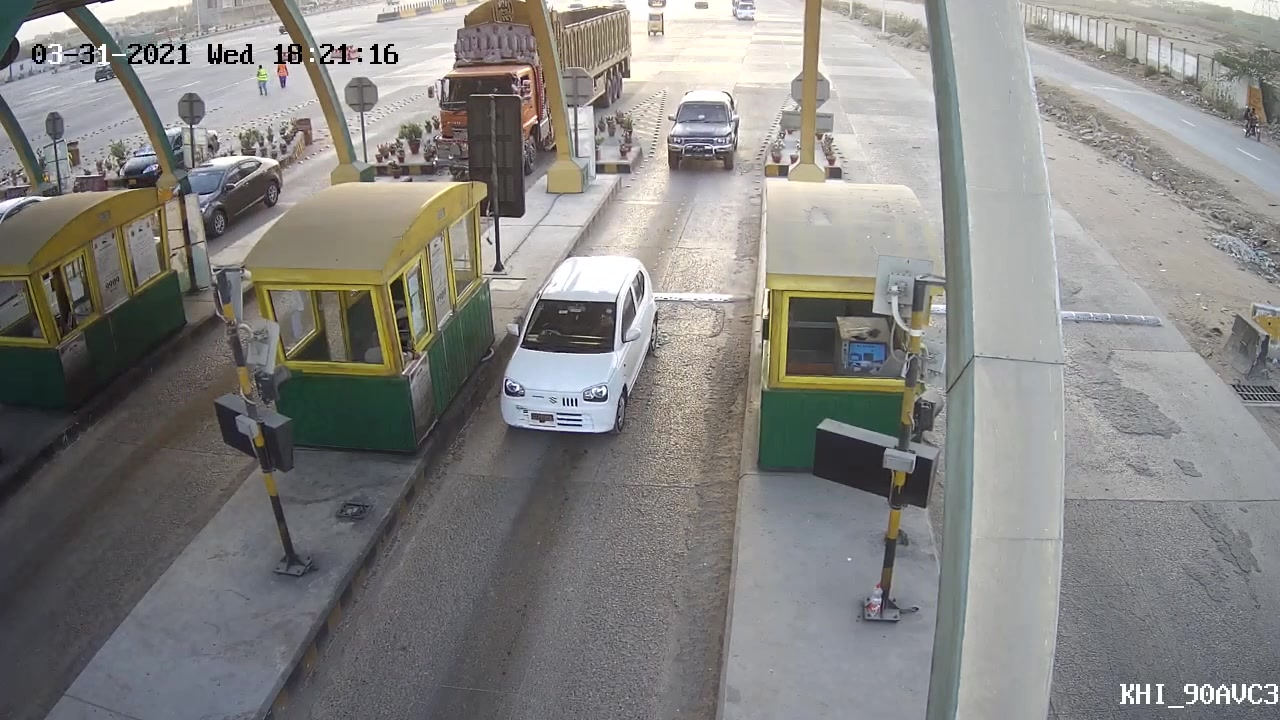F1: (495, 250, 668, 435)
